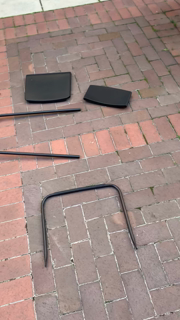Back: (82, 83, 135, 113)
C pipe: (39, 181, 142, 271)
Seat: (24, 72, 76, 108)
